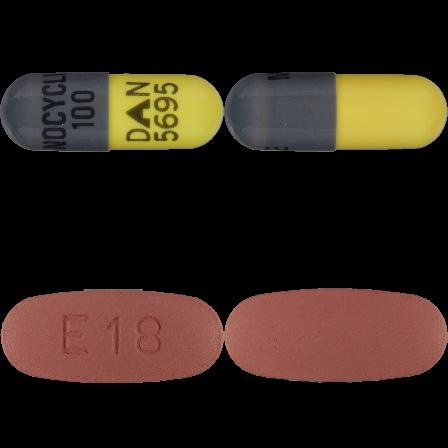50268-569: (0, 0, 224, 224)
